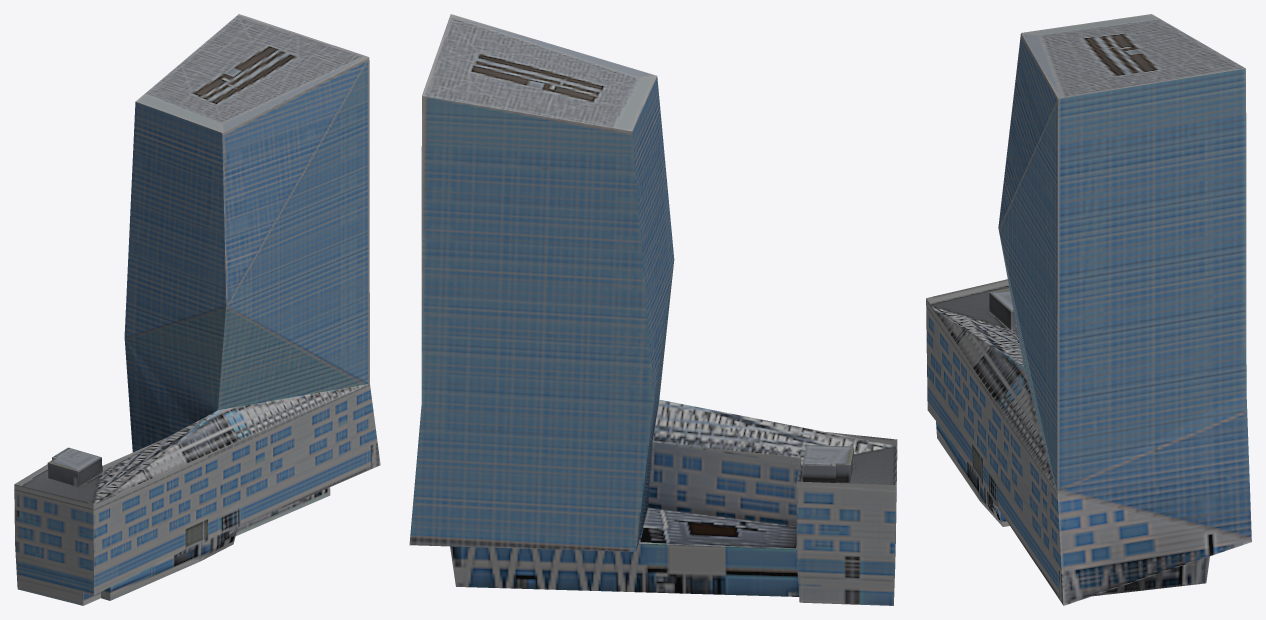
3 views of the same model, side by side, from view 1: azimuth 30°, elevation 25°; view 2: azimuth 150°, elevation 25°; view 3: azimuth 270°, elevation 25° (orthographic). The views are drawn at different scales.
Visible parts, largest first — view 1: 2.14-A.002; view 2: 2.14-A.002; view 3: 2.14-A.002.
Part boxes in pixels (x1,y1,x2,y2): 2.14-A.002: (14, 14, 380, 605); 2.14-A.002: (409, 14, 897, 605); 2.14-A.002: (926, 14, 1251, 605).
Bounding box in the file's own units: 104 × 112 × 63.34.
1 material, 1 textured.
